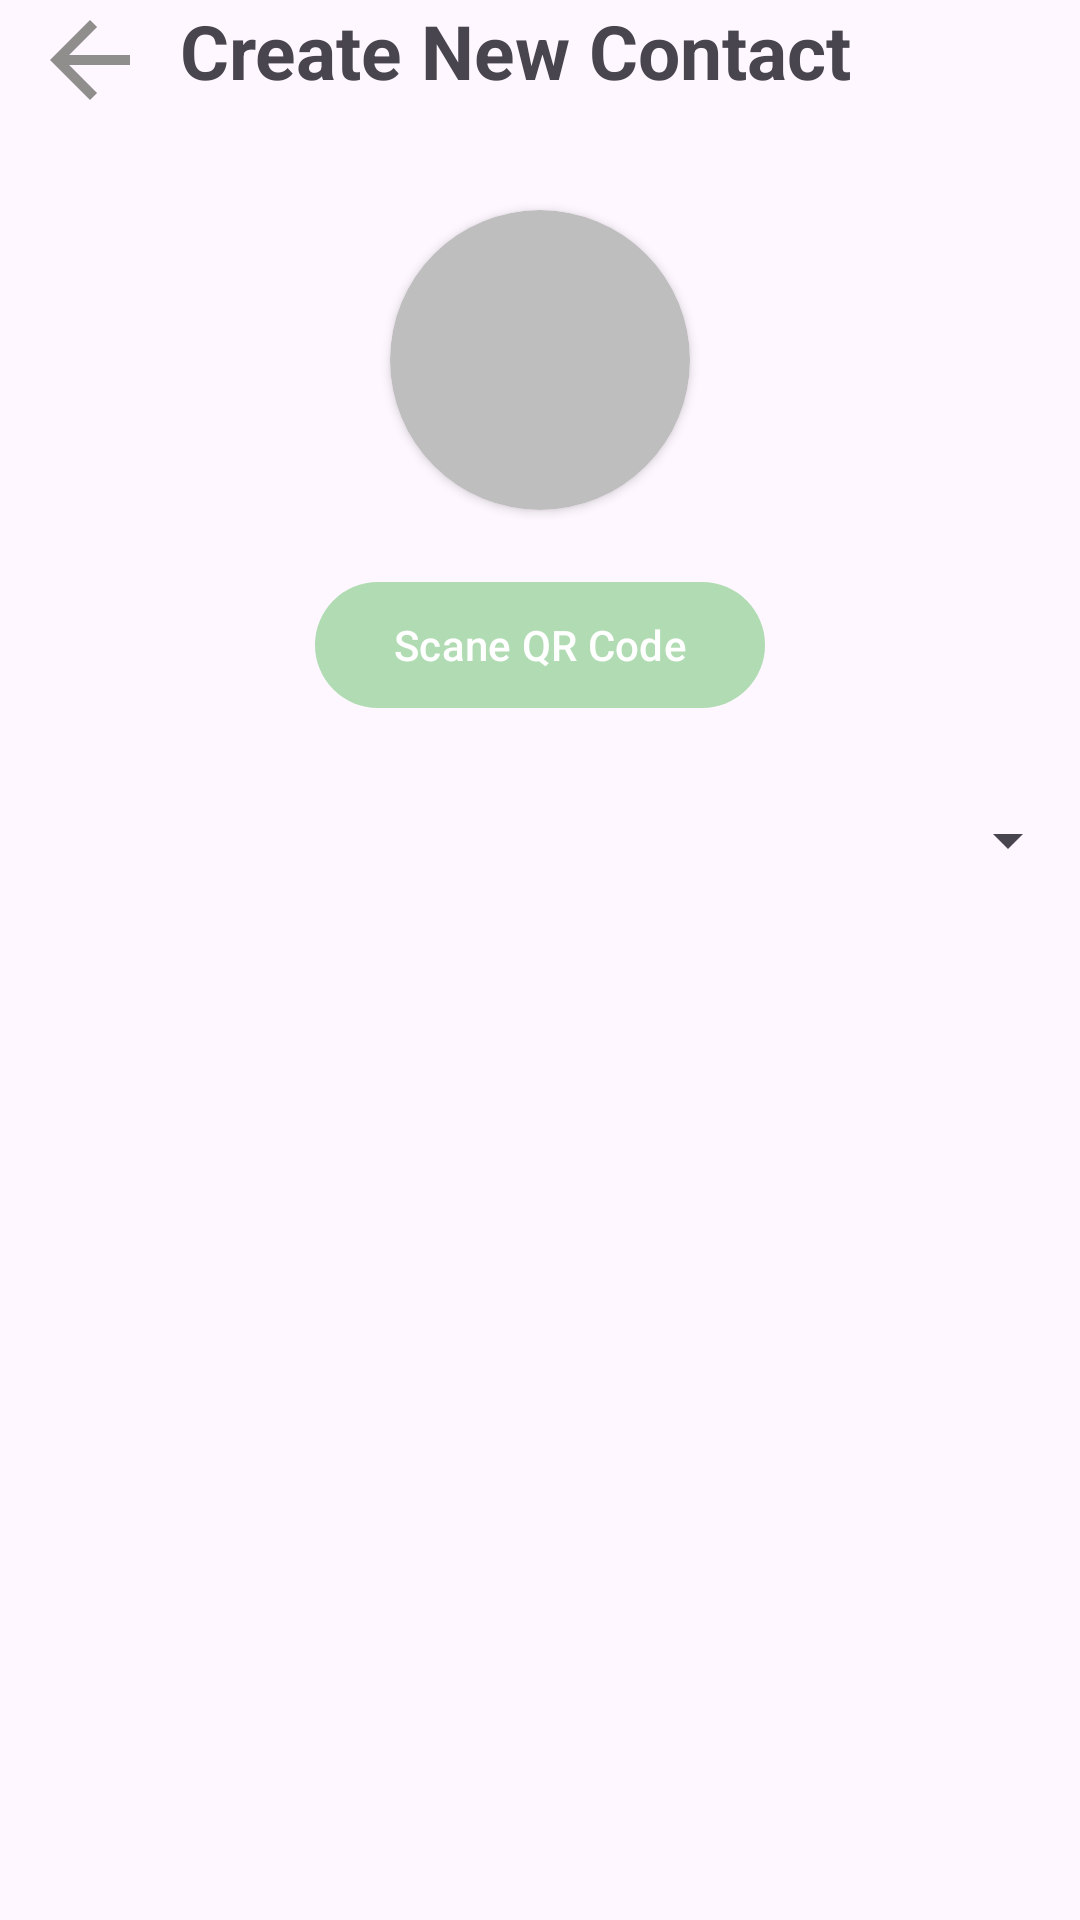

Icons on this 1080x1920 Android screen, each with the point to tap as (x,y):
backaero searchingin: (90,60)
